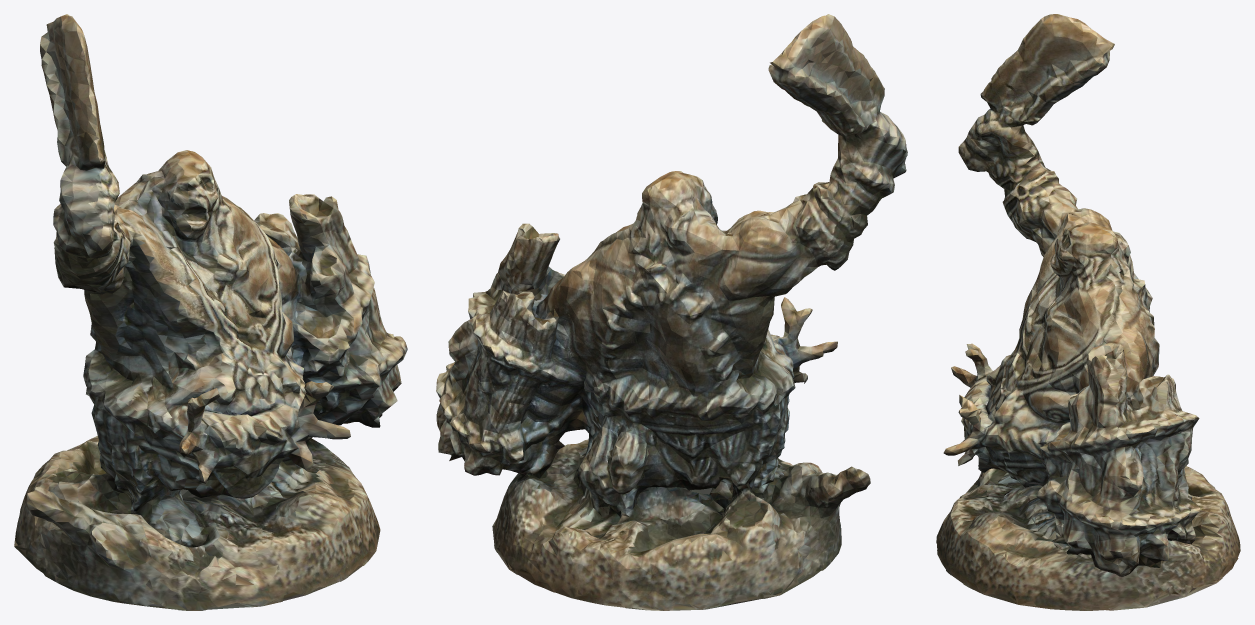
File: mad_warrior.glb
The picture shows the model from 3 angles, left to right: view 1: azimuth 30°, elevation 25°; view 2: azimuth 150°, elevation 25°; view 3: azimuth 270°, elevation 25°; orthographic projection. The views are drawn at different scales.
Visible parts, largest first — view 1: geometry_0; view 2: geometry_0; view 3: geometry_0.
Part boxes in pixels (x1,y1,x2,y2): geometry_0: (14, 14, 407, 610); geometry_0: (436, 14, 907, 610); geometry_0: (936, 14, 1240, 610).
Size of the model in its own units: 0.0257 by 0.0338 by 0.0197.
1 material, 1 textured.
